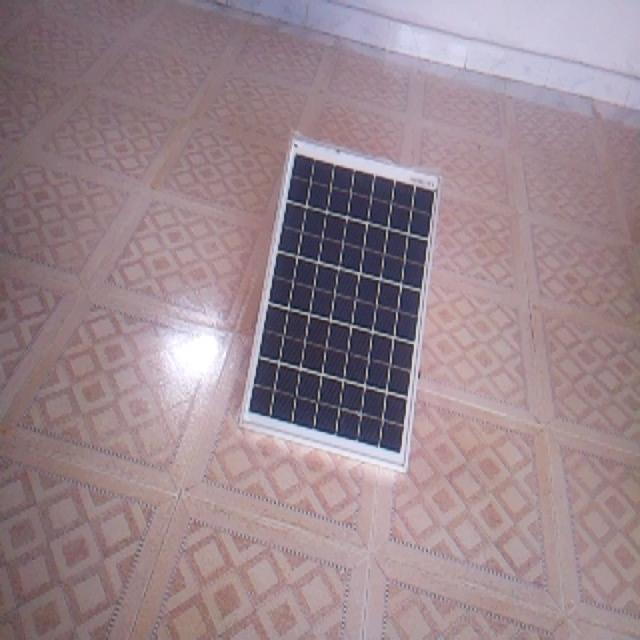Normal Solar Panel: (241, 137, 440, 472)
